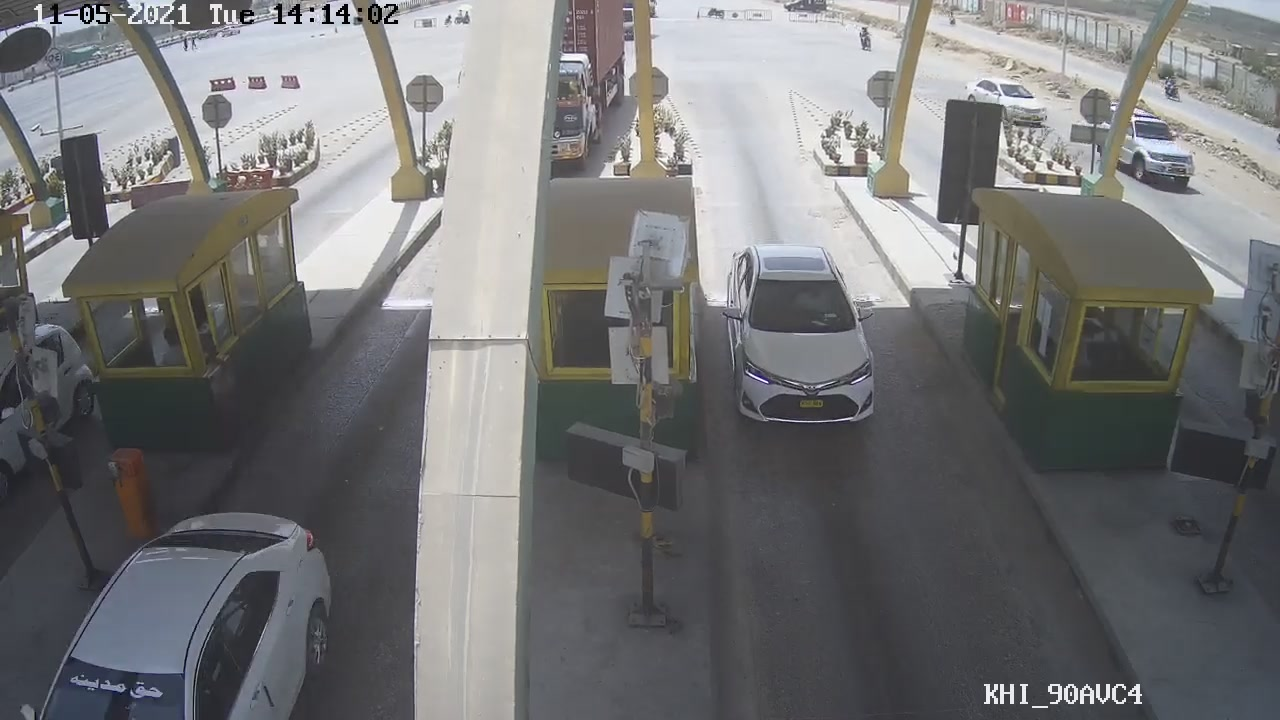F1: (726, 239, 886, 427)
